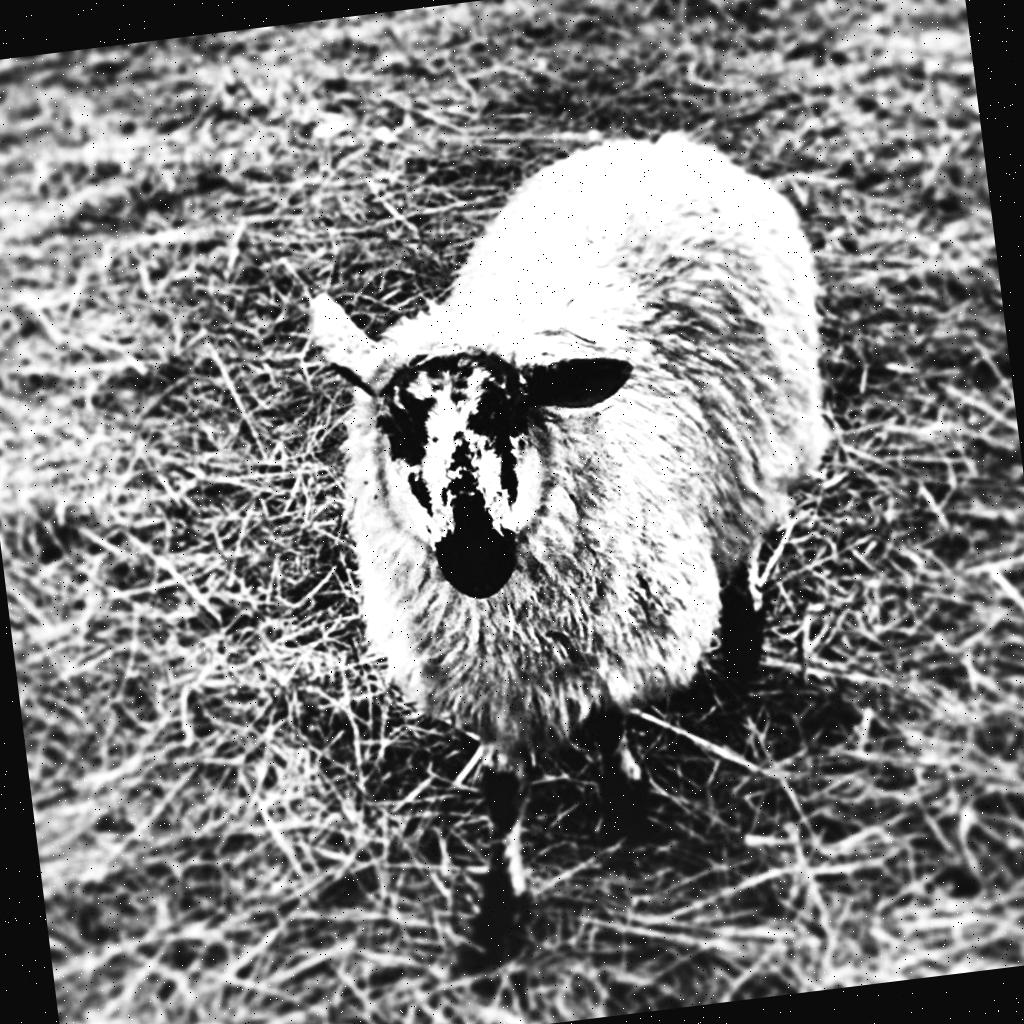Sheep: (285, 96, 896, 974)
